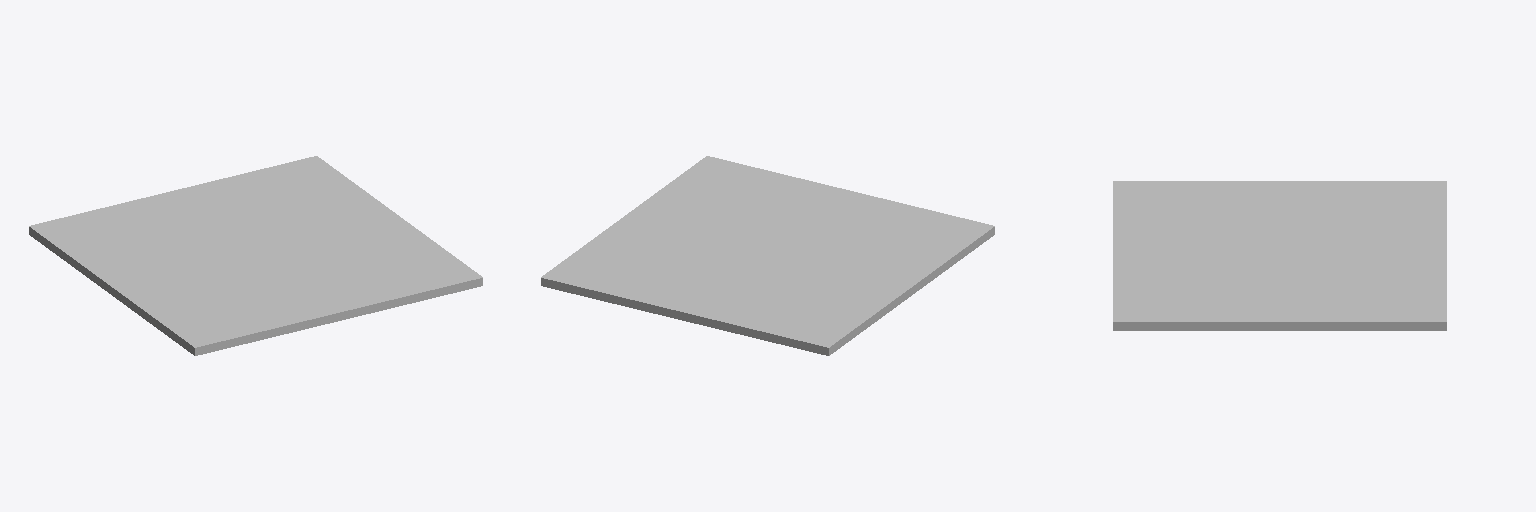
Rendered from alarmOpen.obj.
3 views of the same model, side by side, from view 1: azimuth 30°, elevation 25°; view 2: azimuth 150°, elevation 25°; view 3: azimuth 270°, elevation 25° (orthographic).
Parts seen in each view (by area): view 1: Untitled; view 2: Untitled; view 3: Untitled.
Boxes of the visible parts, box(x1,y1,x2,y2) form: Untitled: box(29, 156, 482, 355); Untitled: box(541, 156, 994, 355); Untitled: box(1113, 181, 1446, 330).
Size of the model in its own units: 3.6 by 0.1 by 3.6.